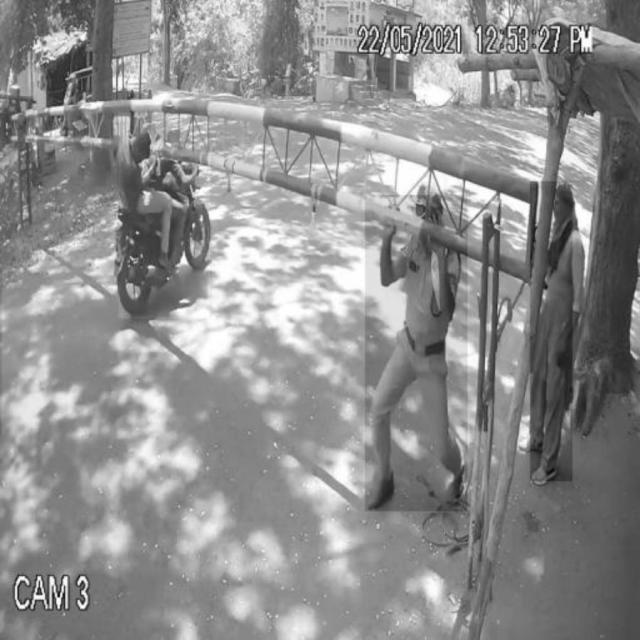accident: (119, 113, 210, 319)
person: (365, 196, 467, 512), (529, 182, 573, 482)
